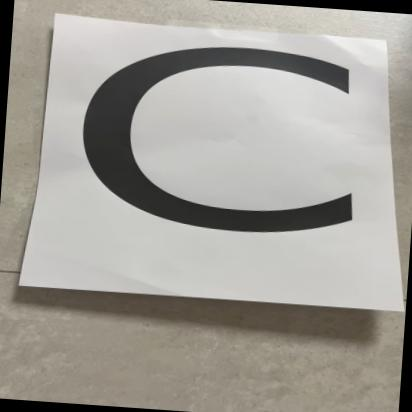seat: (35, 14, 412, 312)
